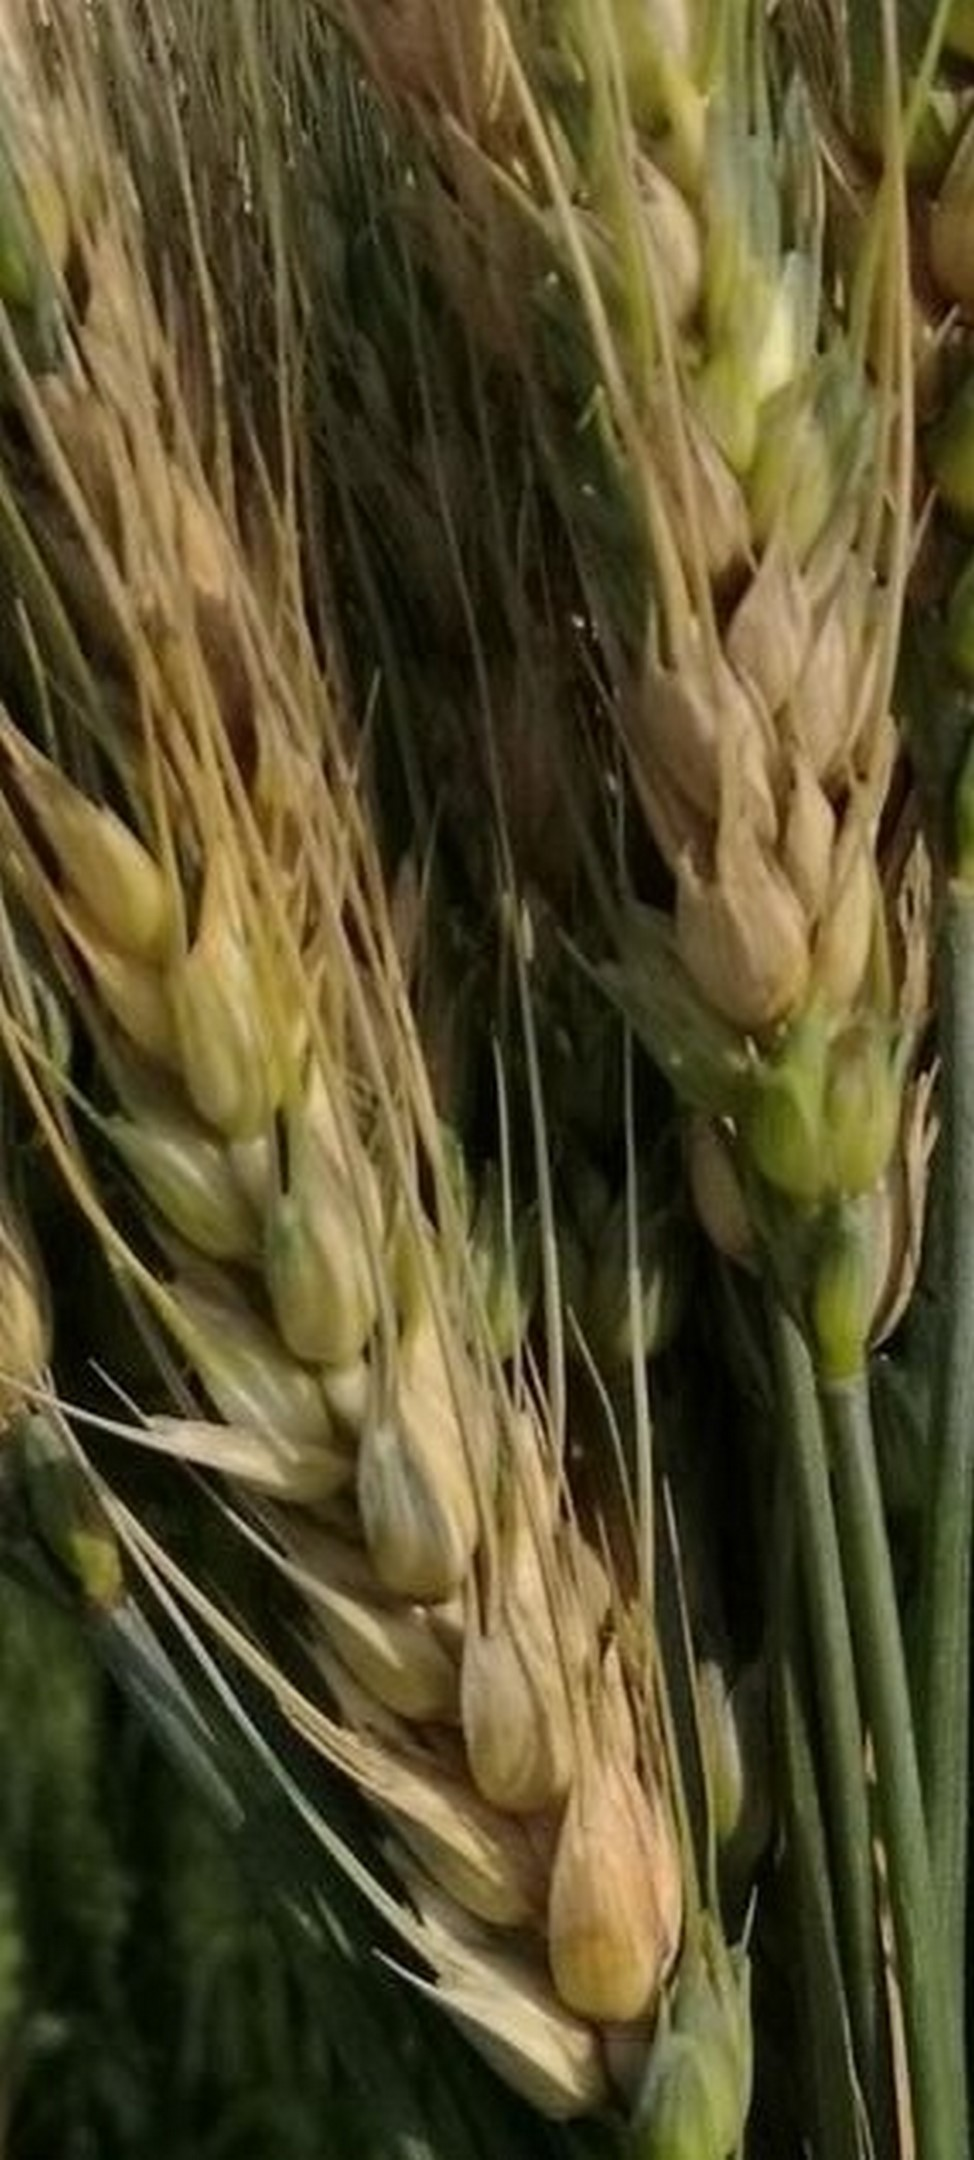Wheat scab: (535, 17, 974, 1373)
